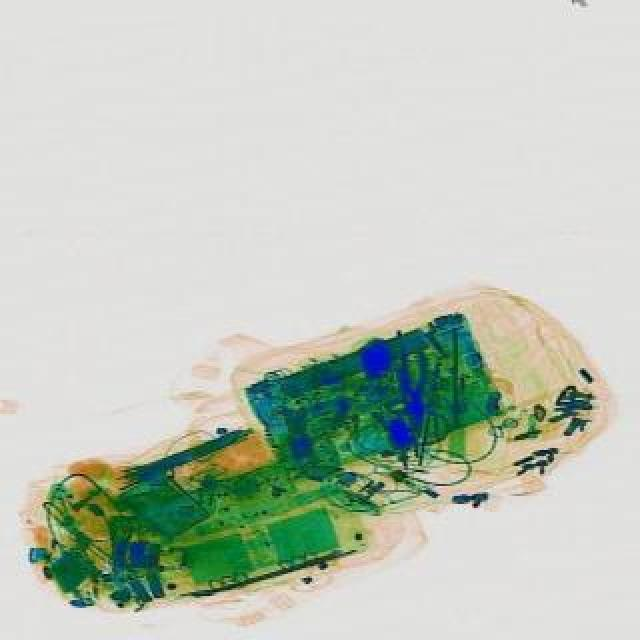wrench: (396, 354, 430, 440)
